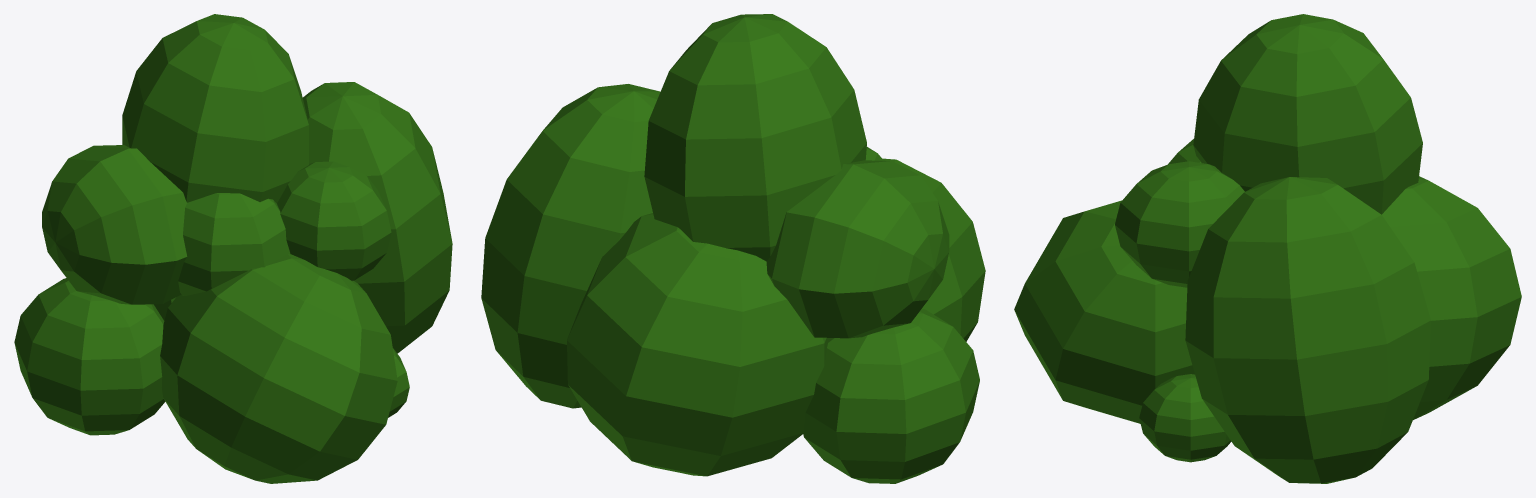
The model's file is bUSH-MAYA.fbx.
3 views of the same model, side by side, from view 1: azimuth 30°, elevation 25°; view 2: azimuth 150°, elevation 25°; view 3: azimuth 270°, elevation 25° (orthographic). The views are drawn at different scales.
Visible parts, largest first — view 1: polySurface2, polySurface7, polySurface4, polySurface8, polySurface3, polySurface9, polySurface5, polySurface1; view 2: polySurface6, polySurface7, polySurface4, polySurface8, polySurface3, polySurface2; view 3: polySurface4, polySurface7, polySurface2, polySurface6, polySurface9, polySurface1.
Boxes of the visible parts, x1,y1,x2,y2 form: polySurface2: (160,254,397,483); polySurface7: (122,14,308,203); polySurface4: (303,82,452,353); polySurface8: (42,145,187,304); polySurface3: (14,278,165,435); polySurface9: (277,161,391,280); polySurface5: (178,193,290,295); polySurface1: (388,348,409,417); polySurface6: (567,213,829,476); polySurface7: (644,14,866,261); polySurface4: (481,84,660,408); polySurface8: (766,160,949,338); polySurface3: (803,308,979,483); polySurface2: (882,158,985,341); polySurface4: (1185,177,1430,483); polySurface7: (1193,14,1422,214); polySurface2: (1014,200,1194,423); polySurface6: (1382,176,1521,419); polySurface9: (1115,161,1244,287); polySurface1: (1139,374,1231,462).
Bounding box in the file's own units: 10.6 × 9.59 × 10.86.
